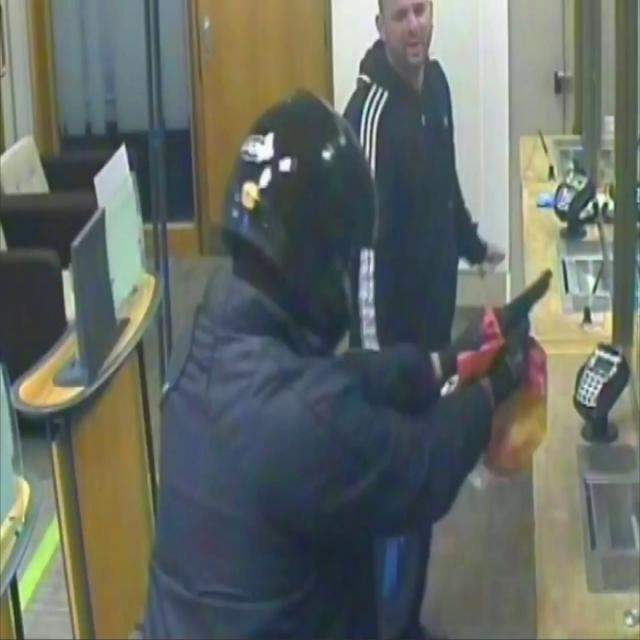gun: (492, 269, 554, 365)
